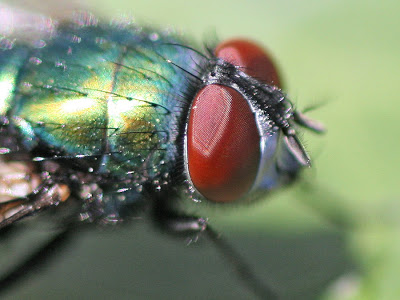green bottles flies: (1, 5, 337, 259)
